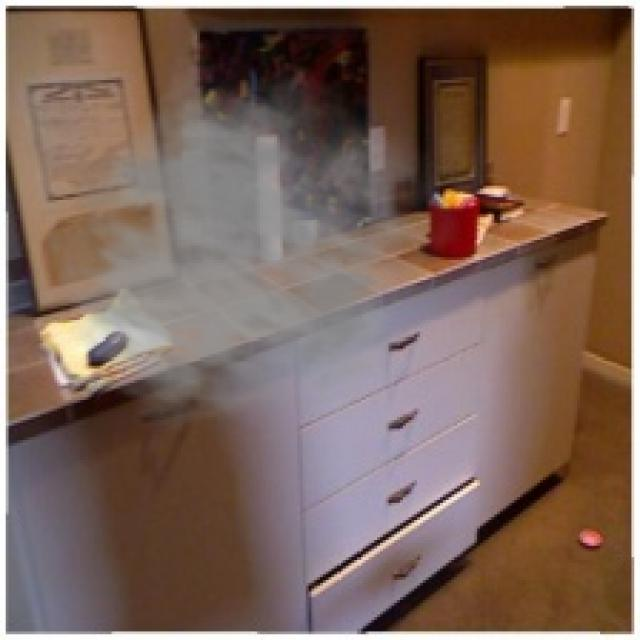smoke: (43, 57, 463, 432)
